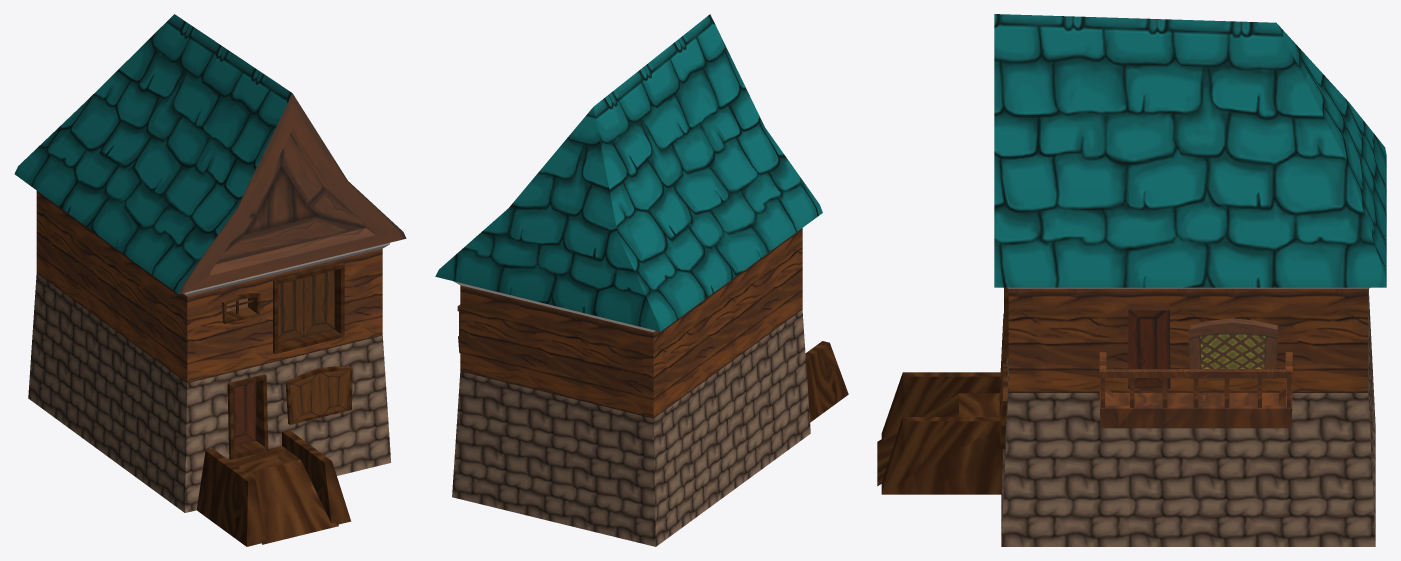
Rendered from Hous4.FBX.
3 renders of one model, left to right at view 1: azimuth 30°, elevation 25°; view 2: azimuth 150°, elevation 25°; view 3: azimuth 270°, elevation 25°, orthographic. The views are drawn at different scales.
Visible parts, largest first — view 1: Hous4, Roof_005, Stairs_01, Stairs_Plane_Important, Door_Double (×2), Window_Thingy (×2), Doorframe_02, Doorframe_01, Door_single, Window_02, Window_01; view 2: Hous4, Roof_005, Stairs_01; view 3: Roof_005, Hous4, Stairs_01, Balcony_006, Fake_Window, Door_single001, Stairs_Plane_Important.
Part boxes in pixels (<box>): Hous4: <box>28,191,390,512</box>; Roof_005: <box>14,14,406,294</box>; Stairs_01: <box>196,430,351,546</box>; Stairs_Plane_Important: <box>246,459,338,544</box>; Door_Double (×2): <box>278,270,334,343</box>; Window_Thingy (×2): <box>290,370,349,421</box>; Doorframe_02: <box>273,263,344,354</box>; Doorframe_01: <box>227,374,268,459</box>; Door_single: <box>233,382,256,445</box>; Window_02: <box>285,366,352,424</box>; Window_01: <box>222,293,260,323</box>; Hous4: <box>452,228,810,546</box>; Roof_005: <box>435,14,822,331</box>; Stairs_01: <box>805,341,848,422</box>; Roof_005: <box>994,14,1386,287</box>; Hous4: <box>1001,287,1375,546</box>; Stairs_01: <box>881,372,1003,494</box>; Balcony_006: <box>1099,352,1292,428</box>; Fake_Window: <box>1188,318,1277,378</box>; Door_single001: <box>1128,308,1170,388</box>; Stairs_Plane_Important: <box>877,393,958,486</box>.
Bounding box in the file's own units: 7.5 × 11.63 × 11.32.
4 materials, 4 textured.
